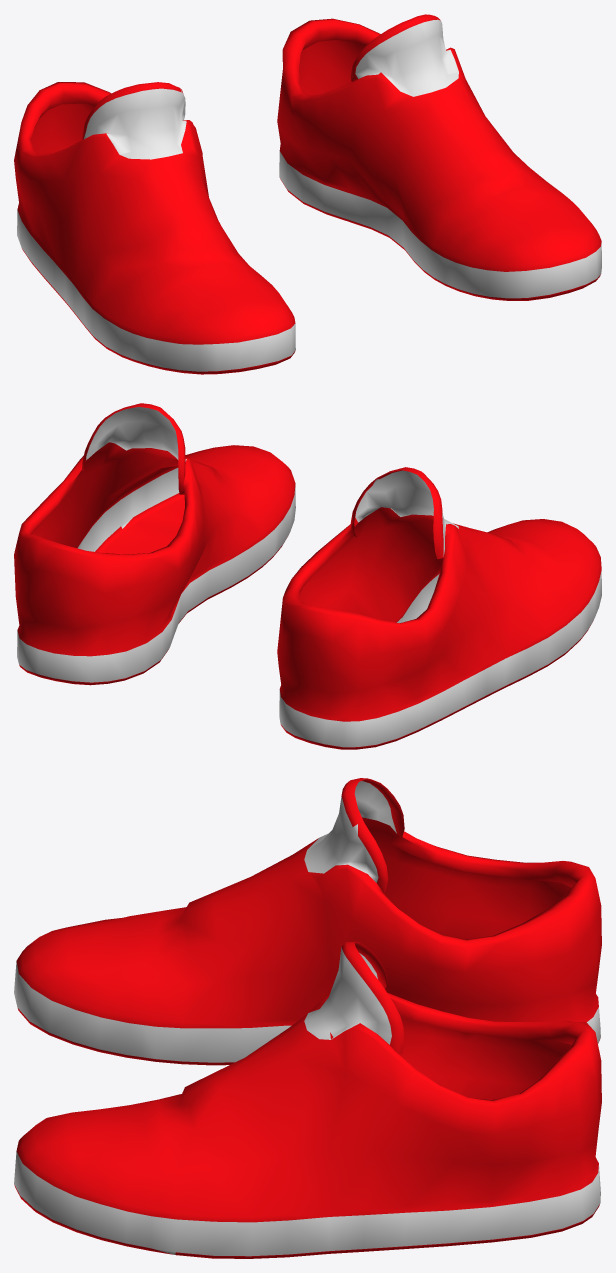
The model's file is women shoes4 .fbx.
3 renders of one model, top to bottom at view 1: azimuth 30°, elevation 25°; view 2: azimuth 150°, elevation 25°; view 3: azimuth 270°, elevation 25°, orthographic. The views are drawn at different scales.
Parts seen in each view (by area): view 1: shoes, shoes.001; view 2: shoes.001, shoes; view 3: shoes, shoes.001.
Boxes of the visible parts, box(x1,y1,x2,y2) form: shoes: box(277, 14, 601, 300); shoes.001: box(14, 82, 295, 374); shoes.001: box(277, 467, 601, 749); shoes: box(14, 403, 295, 685); shoes: box(14, 941, 601, 1258); shoes.001: box(14, 778, 601, 1065).
Bounding box in the file's own units: 99.68 × 42.9 × 87.71.
